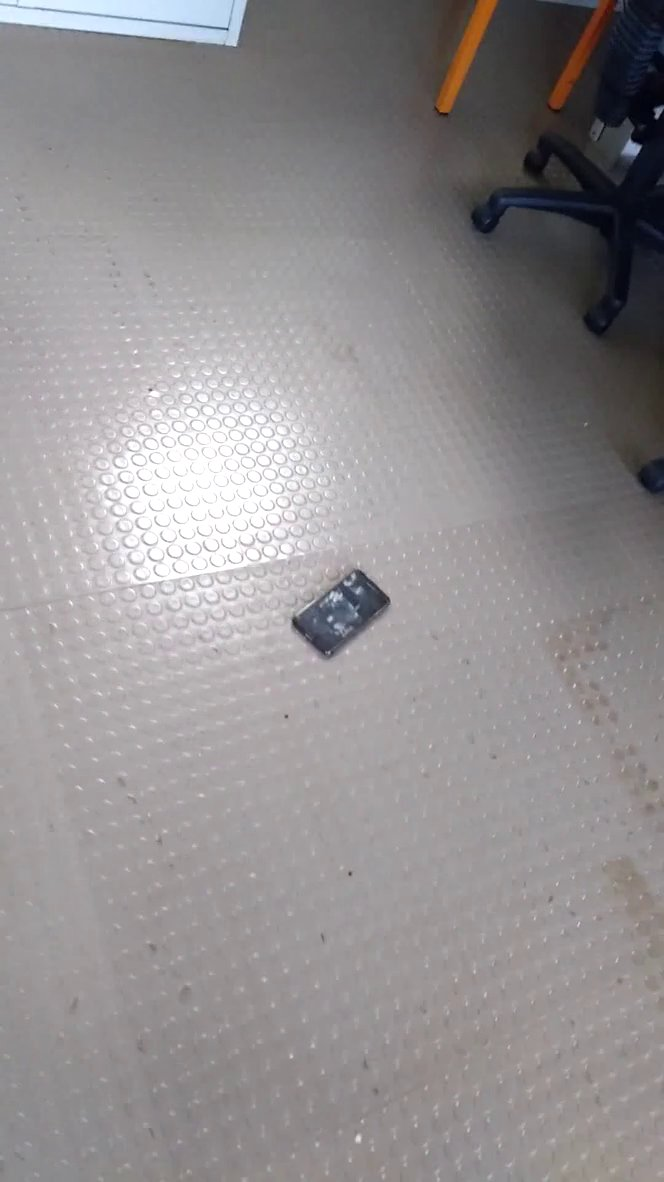phone: (280, 553, 409, 675)
